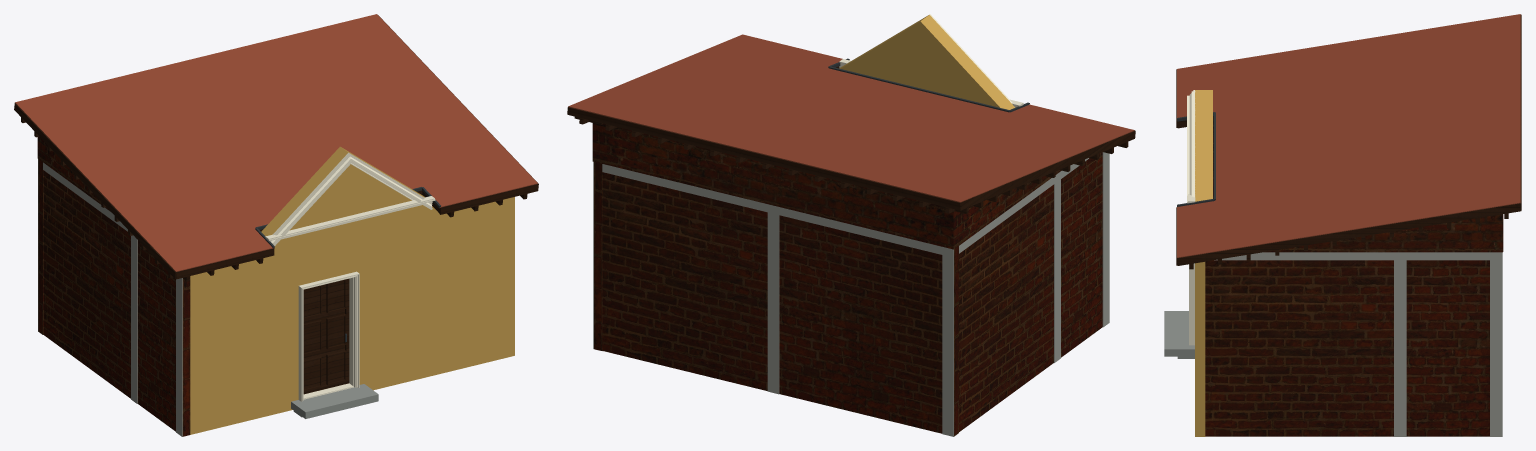
The model's file is building.glb.
3 views of the same model, side by side, from view 1: azimuth 30°, elevation 25°; view 2: azimuth 150°, elevation 25°; view 3: azimuth 270°, elevation 25° (orthographic). The views are drawn at different scales.
Visible parts, largest first — view 1: roof_assembly/cubierta/roof_cover#0001, house:0/edge0/z0/house:0/edge0/z0/wall_0_0, house:0/edge3/z0/house:0/edge3/z0/wall_0_0, crown/fronton/crown_body#0001, crown/fronton/crown_moulding#0001, site/entrance/0/entrance_step#0002, roof_assembly/cubierta/roof_fascia#0002, crown/fronton/crown_base_cornice#0001, house:0/edge3/z0/house:0/edge3/z0/column_2_0, house:0/edge3/z0/house:0/edge3/z0/column_1_0, house:0/edge2/z0/house:0/edge2/z0/wall_0_0, house:0/edge0/z0/opening_u2.80_v0.12/door_panel_back#0001 (+9 smaller); view 2: house:0/edge2/z0/house:0/edge2/z0/wall_0_0, roof_assembly/cubierta/roof_cover#0001, house:0/edge3/z0/house:0/edge3/z0/wall_0_0, roof_assembly/cubierta/roof_gable_closure#0007, crown/fronton/crown_body#0001, roof_assembly/cubierta/roof_fascia#0001, house:0/edge2/z0/house:0/edge2/z0/beam_0_0, house:0/edge2/z0/house:0/edge2/z0/column_2_0, house:0/edge2/z0/house:0/edge2/z0/column_1_0, roof_assembly/cubierta/roof_gable_closure#0009, house:0/edge1/z0/house:0/edge1/z0/wall_0_0, roof_assembly/cubierta/roof_fascia#0002 (+4 smaller); view 3: roof_assembly/cubierta/roof_cover#0001, house:0/edge1/z0/house:0/edge1/z0/wall_0_0, roof_assembly/cubierta/roof_gable_closure#0005, roof_assembly/cubierta/roof_fascia#0005, house:0/edge1/z0/house:0/edge1/z0/beam_0_0, house:0/edge1/z0/house:0/edge1/z0/column_1_0, house:0/edge1/z0/house:0/edge1/z0/column_2_0, house:0/edge0/z0/house:0/edge0/z0/wall_0_0, crown/fronton/crown_body#0001, site/entrance/0/entrance_step#0002, crown/fronton/crown_moulding#0001, house:0/edge0/z0/opening_u2.80_v0.12/door_moulding#0028 (+1 smaller).
Boxes of the visible parts, x1=… form: roof_assembly/cubierta/roof_cover#0001: x1=15, y1=14, x2=537, y2=271; house:0/edge0/z0/house:0/edge0/z0/wall_0_0: x1=190, y1=197, x2=514, y2=434; house:0/edge3/z0/house:0/edge3/z0/wall_0_0: x1=43, y1=170, x2=190, y2=436; crown/fronton/crown_body#0001: x1=261, y1=146, x2=424, y2=236; crown/fronton/crown_moulding#0001: x1=270, y1=152, x2=432, y2=245; site/entrance/0/entrance_step#0002: x1=291, y1=384, x2=378, y2=418; roof_assembly/cubierta/roof_fascia#0002: x1=14, y1=103, x2=176, y2=278; crown/fronton/crown_base_cornice#0001: x1=265, y1=196, x2=435, y2=241; house:0/edge3/z0/house:0/edge3/z0/column_2_0: x1=131, y1=235, x2=137, y2=403; house:0/edge3/z0/house:0/edge3/z0/column_1_0: x1=176, y1=278, x2=182, y2=436; house:0/edge2/z0/house:0/edge2/z0/wall_0_0: x1=38, y1=159, x2=43, y2=334; house:0/edge0/z0/opening_u2.80_v0.12/door_panel_back#0001: x1=303, y1=284, x2=344, y2=385; house:0/edge2/z0/house:0/edge2/z0/wall_0_0: x1=602, y1=172, x2=958, y2=436; roof_assembly/cubierta/roof_cover#0001: x1=568, y1=34, x2=1134, y2=202; house:0/edge3/z0/house:0/edge3/z0/wall_0_0: x1=959, y1=152, x2=1102, y2=431; roof_assembly/cubierta/roof_gable_closure#0007: x1=600, y1=123, x2=953, y2=249; crown/fronton/crown_body#0001: x1=839, y1=16, x2=1013, y2=109; roof_assembly/cubierta/roof_fascia#0001: x1=568, y1=107, x2=960, y2=210; house:0/edge2/z0/house:0/edge2/z0/beam_0_0: x1=602, y1=164, x2=953, y2=257; house:0/edge2/z0/house:0/edge2/z0/column_2_0: x1=767, y1=212, x2=779, y2=394; house:0/edge2/z0/house:0/edge2/z0/column_1_0: x1=942, y1=255, x2=953, y2=436; roof_assembly/cubierta/roof_gable_closure#0009: x1=958, y1=170, x2=1061, y2=245; house:0/edge1/z0/house:0/edge1/z0/wall_0_0: x1=594, y1=162, x2=602, y2=350; roof_assembly/cubierta/roof_fascia#0002: x1=960, y1=130, x2=1135, y2=210; roof_assembly/cubierta/roof_cover#0001: x1=1177, y1=14, x2=1520, y2=257; house:0/edge1/z0/house:0/edge1/z0/wall_0_0: x1=1205, y1=260, x2=1489, y2=436; roof_assembly/cubierta/roof_gable_closure#0005: x1=1264, y1=214, x2=1502, y2=252; roof_assembly/cubierta/roof_fascia#0005: x1=1176, y1=203, x2=1521, y2=265; house:0/edge1/z0/house:0/edge1/z0/beam_0_0: x1=1214, y1=252, x2=1502, y2=260; house:0/edge1/z0/house:0/edge1/z0/column_1_0: x1=1490, y1=260, x2=1502, y2=436; house:0/edge1/z0/house:0/edge1/z0/column_2_0: x1=1394, y1=260, x2=1406, y2=436; house:0/edge0/z0/house:0/edge0/z0/wall_0_0: x1=1195, y1=262, x2=1205, y2=436; crown/fronton/crown_body#0001: x1=1198, y1=90, x2=1212, y2=201; site/entrance/0/entrance_step#0002: x1=1164, y1=311, x2=1194, y2=356; crown/fronton/crown_moulding#0001: x1=1187, y1=90, x2=1195, y2=197; house:0/edge0/z0/opening_u2.80_v0.12/door_moulding#0028: x1=1189, y1=263, x2=1194, y2=345.
Bounding box in the file's own units: 8.74 × 5.64 × 6.97.
9 materials, 2 textured.
